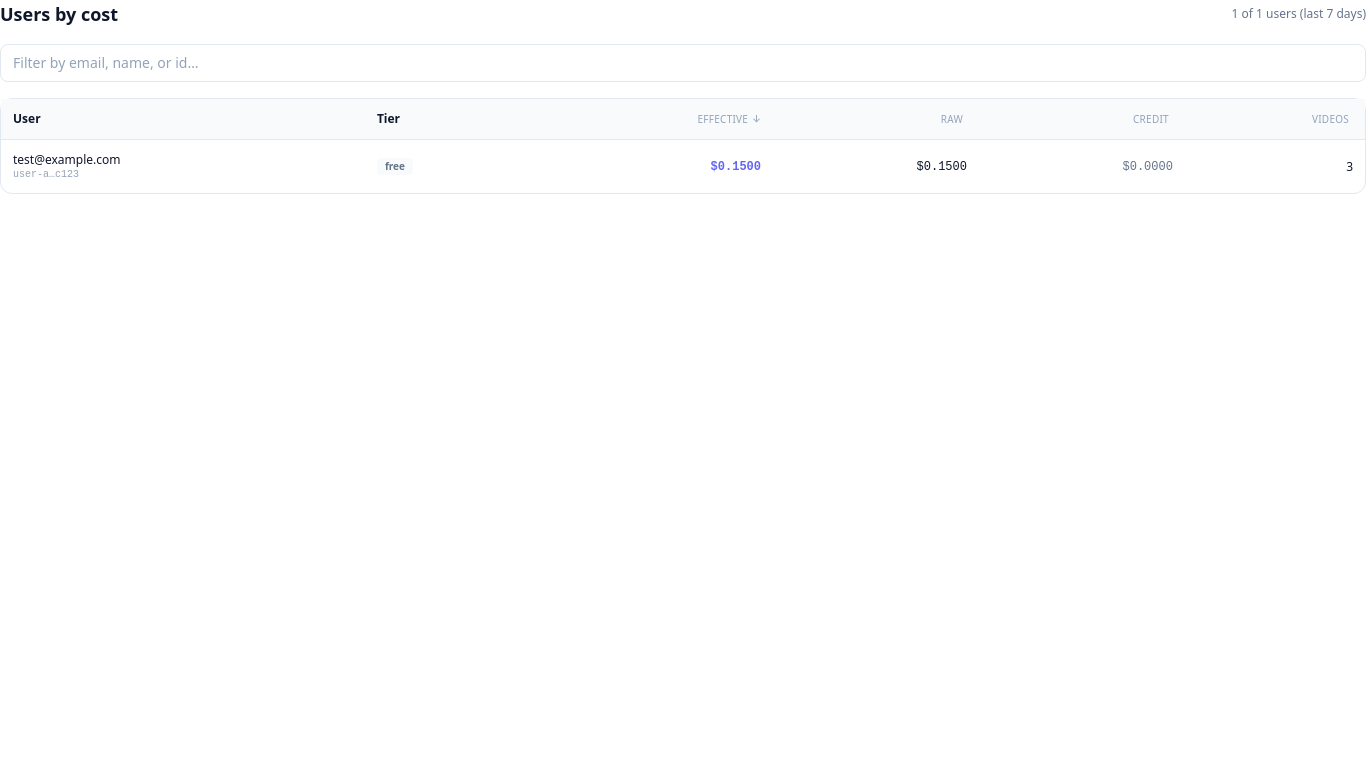
Test: User-360 drawer tabs › should open the User-360 drawer when a user row is clicked
The image size is (1366, 768).
Click the row "test@example.com user-a…c123 free $0.1500 $0.1500 $0.0000 3". click: coordinates (67, 160)
box: [1,140,1365,193]
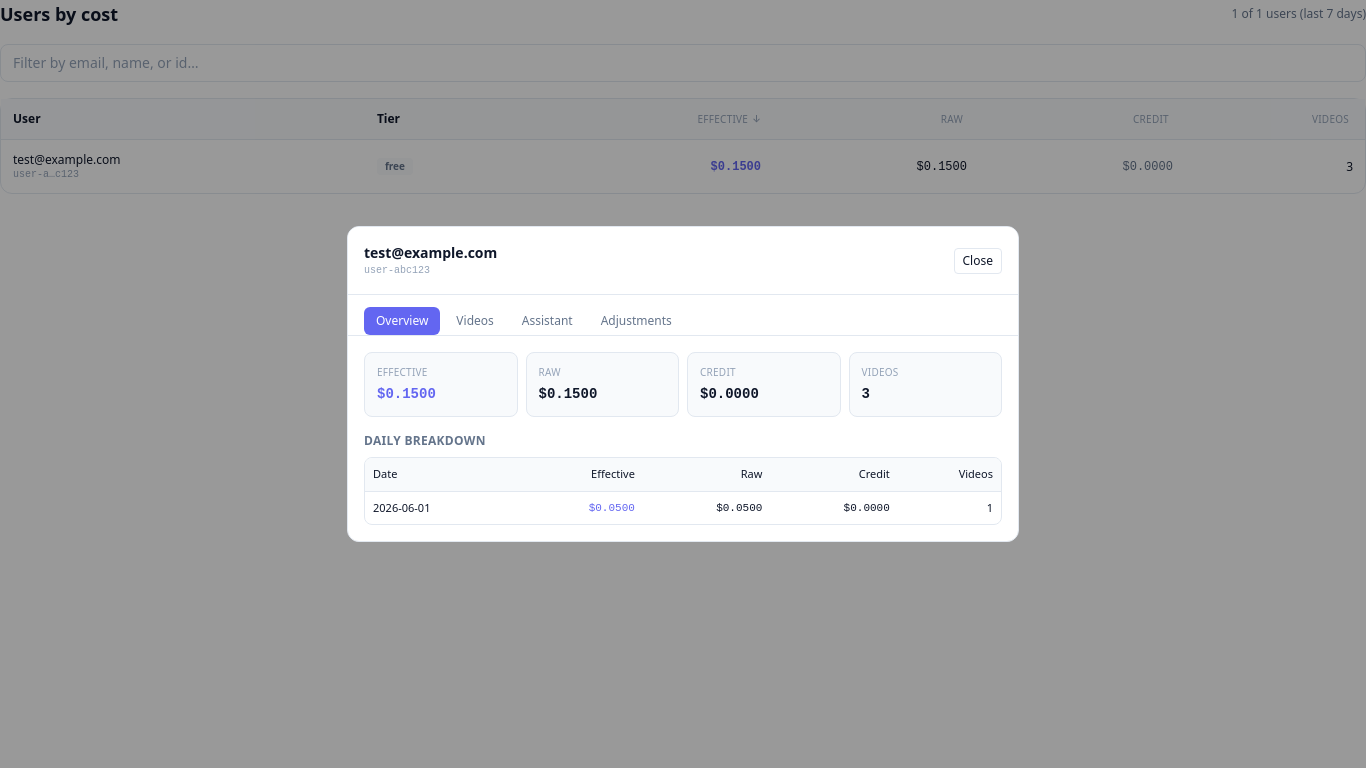
Check: the dialog is shown
